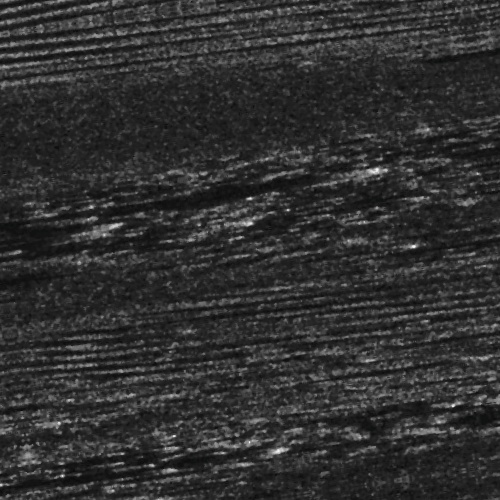object: (113, 204, 310, 235), (295, 178, 430, 195), (2, 383, 85, 392), (207, 444, 270, 453), (419, 385, 492, 390), (0, 474, 30, 485), (412, 217, 465, 222), (0, 191, 14, 200), (375, 263, 416, 266), (488, 361, 500, 366)
shadow: (0, 204, 211, 235), (0, 178, 362, 195), (0, 444, 238, 453), (291, 385, 456, 390), (352, 361, 500, 366), (331, 217, 438, 222), (403, 271, 500, 276), (0, 383, 44, 392), (286, 263, 395, 266), (465, 84, 500, 93)
